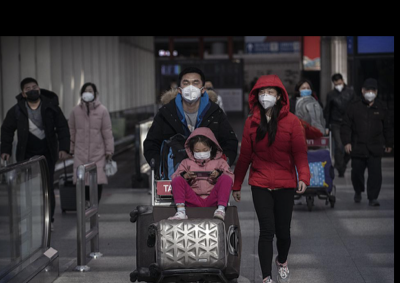with_mask: (180, 79, 202, 103), (258, 88, 277, 110), (24, 84, 40, 102), (193, 146, 211, 161), (81, 88, 95, 103), (299, 86, 313, 98), (363, 89, 377, 101), (334, 81, 345, 92)
